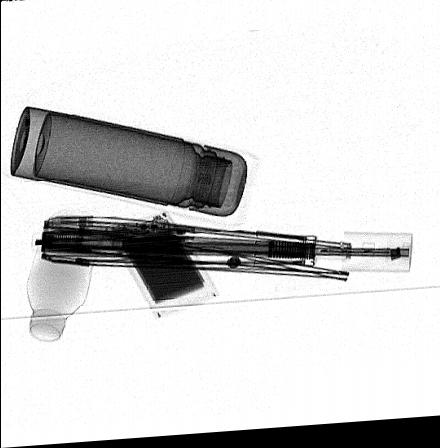Powerbank: (105, 208, 220, 322)
